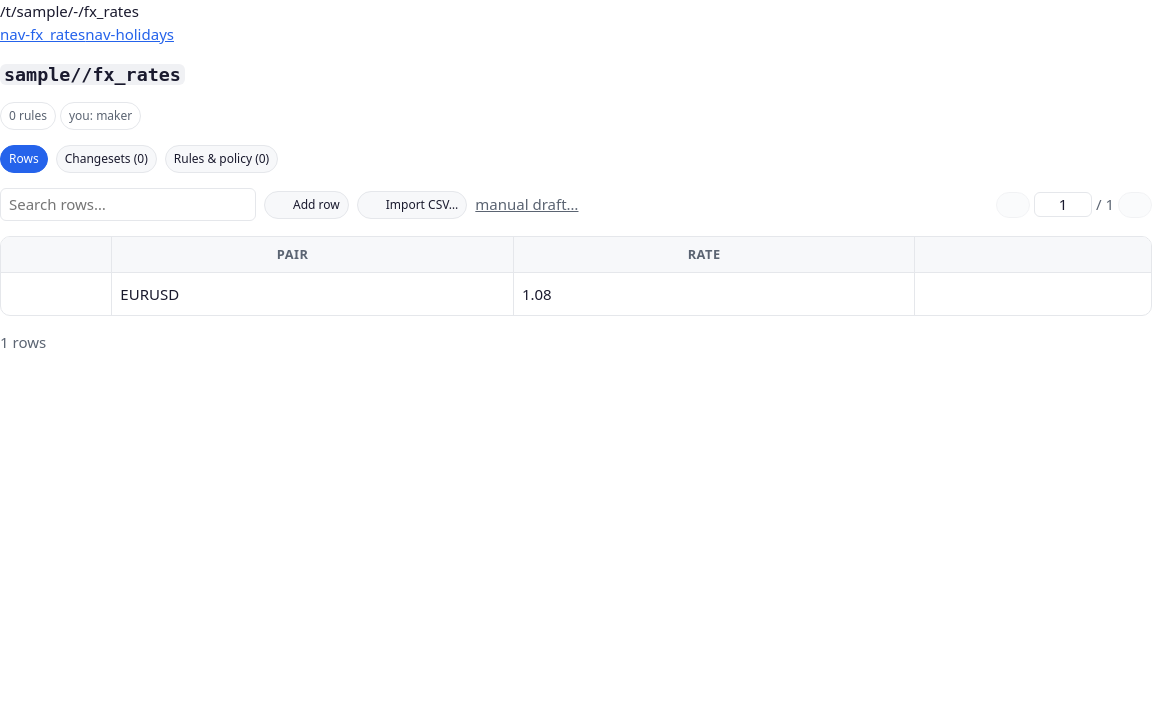
TableBrowser draft basket scoping › drops the draft on Discard and adopts the new table
Click the button "Add row": (306, 205) [264,191,349,219]
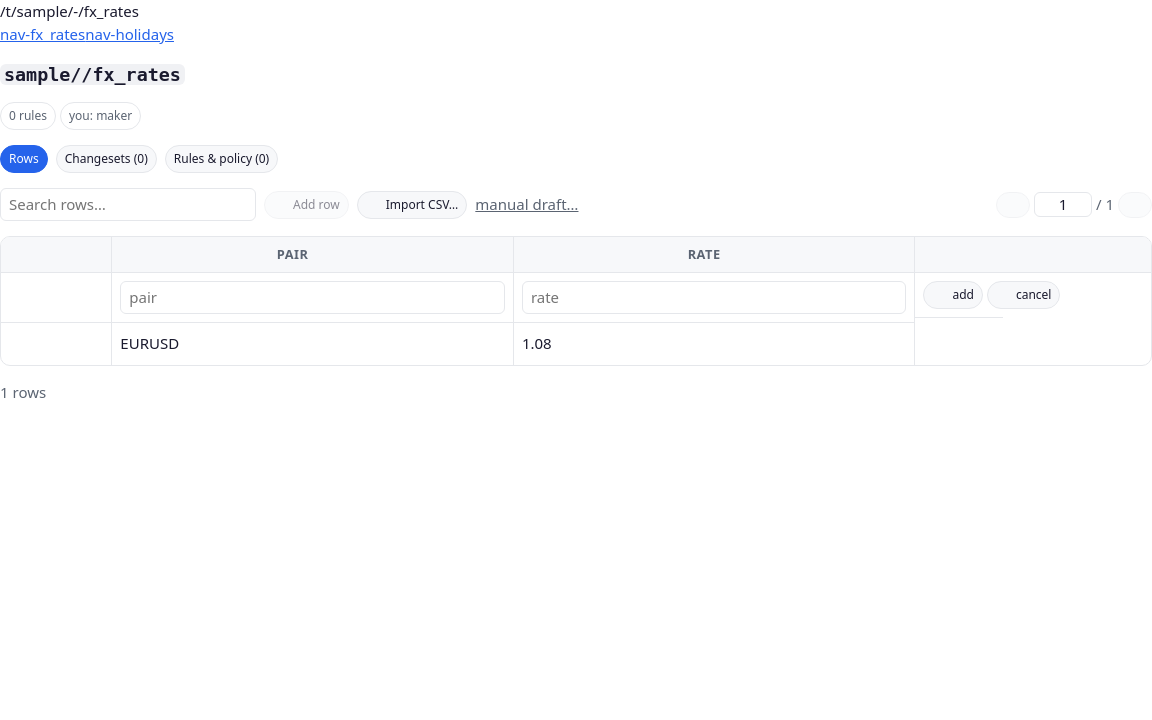
In the field labelled "pair": (313, 297) [120,281,505,314], type "XXXYYY"
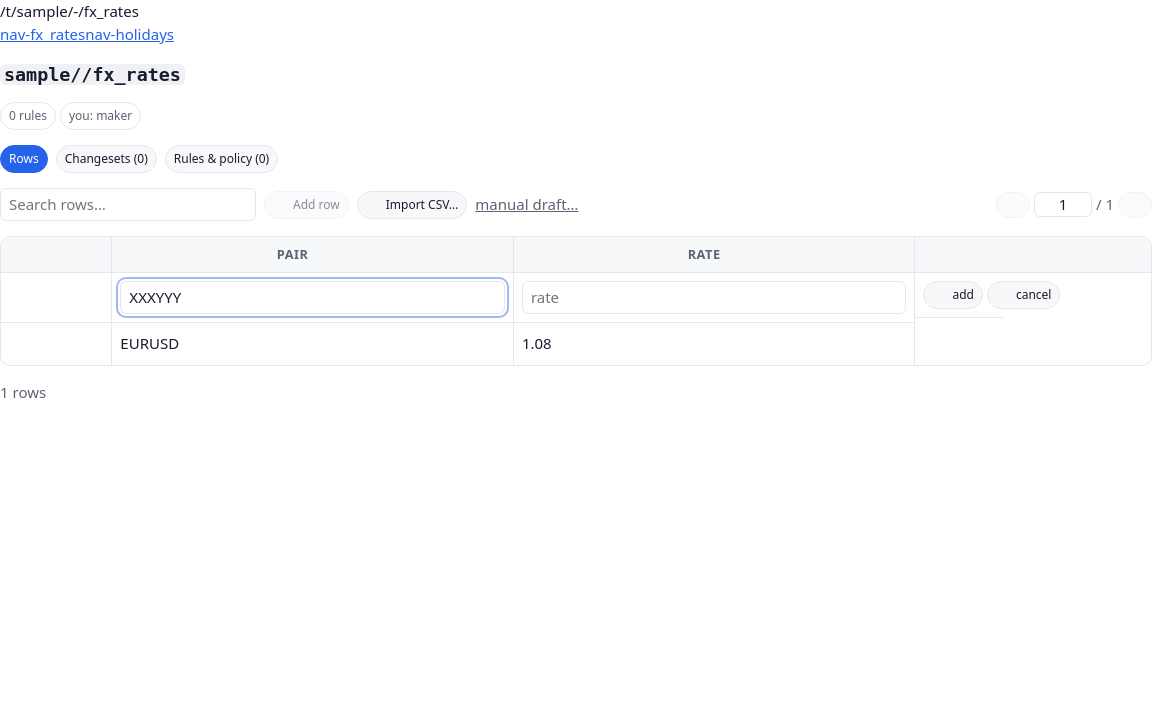
In the field labelled "rate": (714, 297) [522,281,906,314], type "1.5"
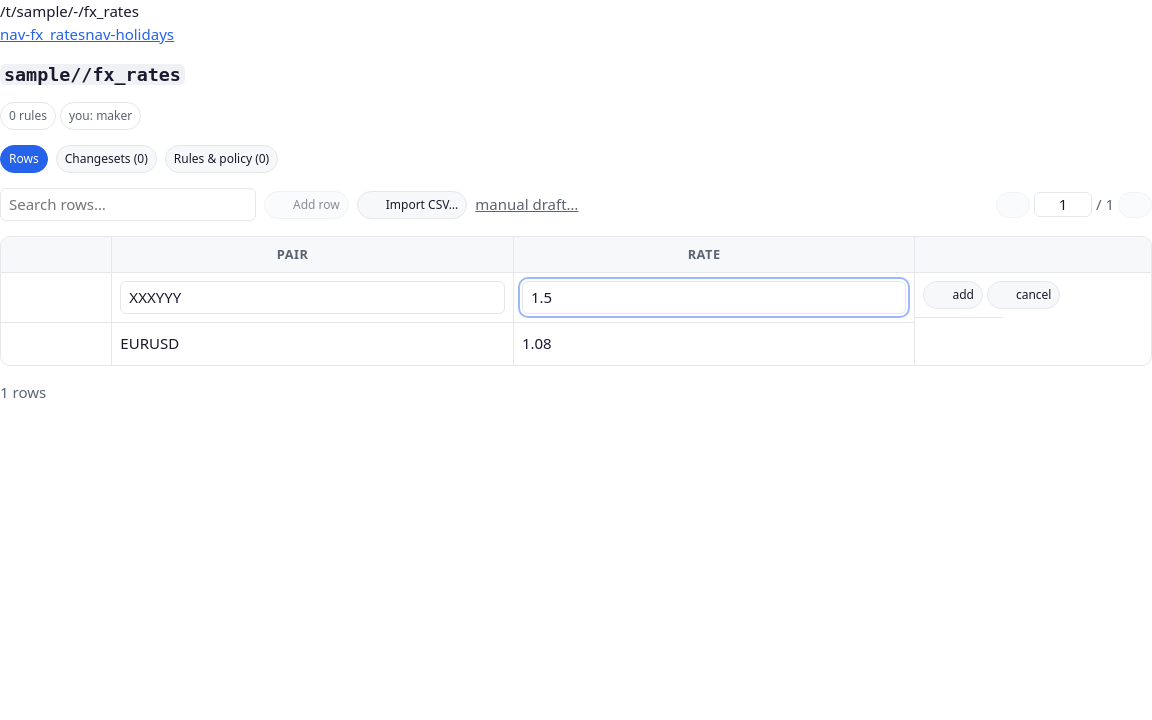
Click the button "add": (953, 295) [923,281,983,309]
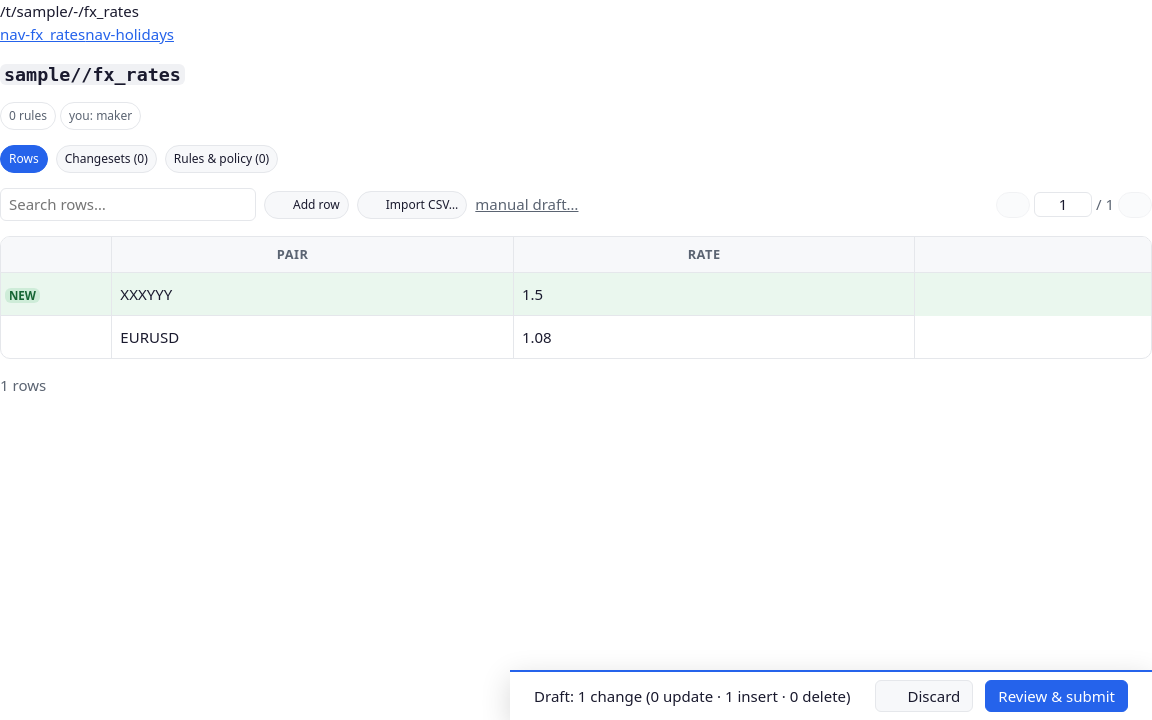
Click the link "nav-holidays": (130, 34) [85,24,174,44]
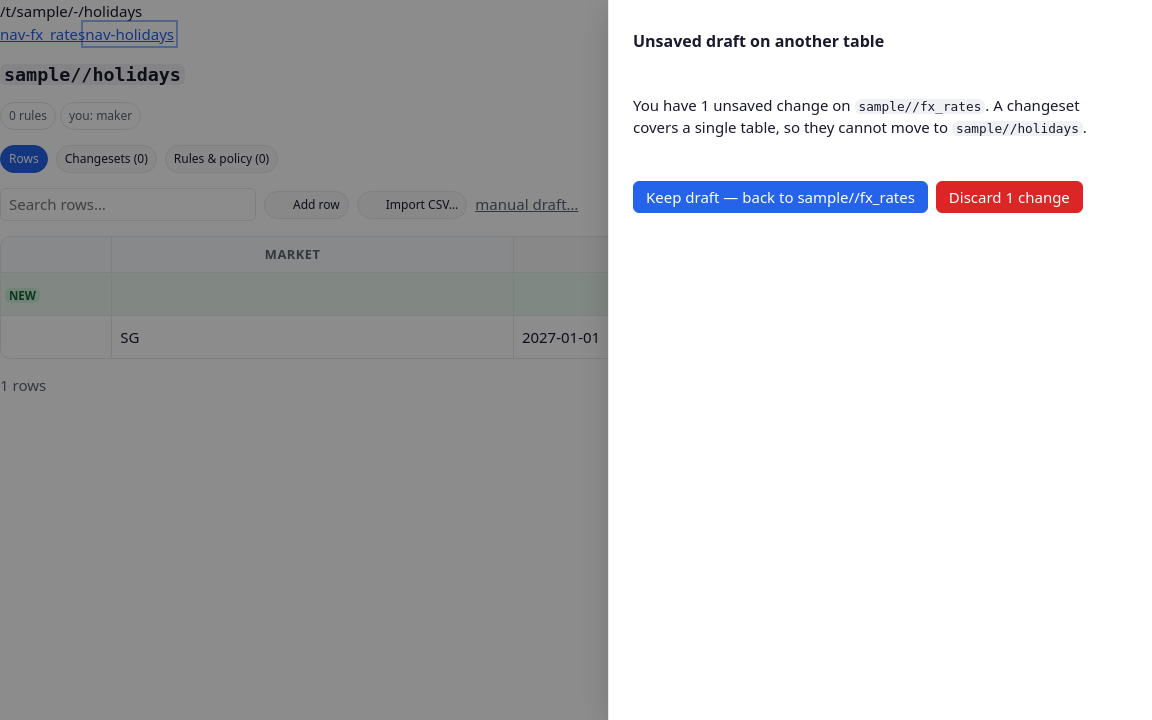
Click the button "Discard 1 change": (1009, 197) [936,180,1083,213]
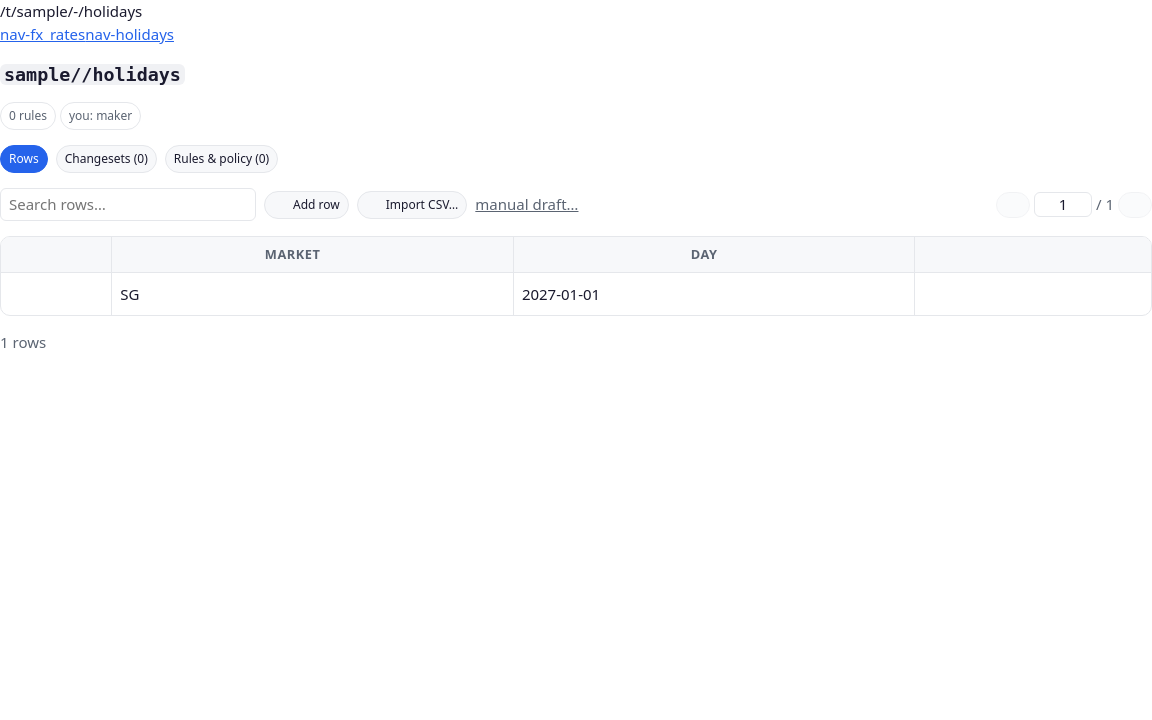
Expected: the text "Draft: 1 change (0 update · 1 insert · 0 delete)" is not shown
Result: the text with test id "pathname" reads "/t/sample/-/holidays" at [0,1,142,21]
Result: the heading "Unsaved draft on another table" is gone
